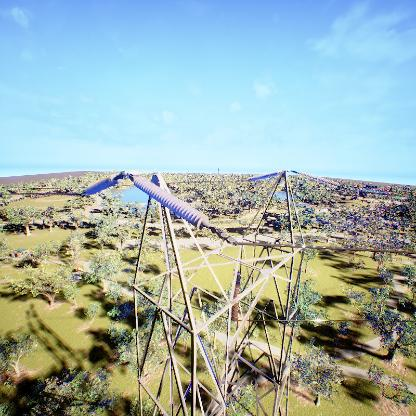insulator: (132, 175, 209, 230), (295, 171, 341, 187), (85, 174, 120, 194), (231, 272, 240, 321), (248, 171, 281, 180)
